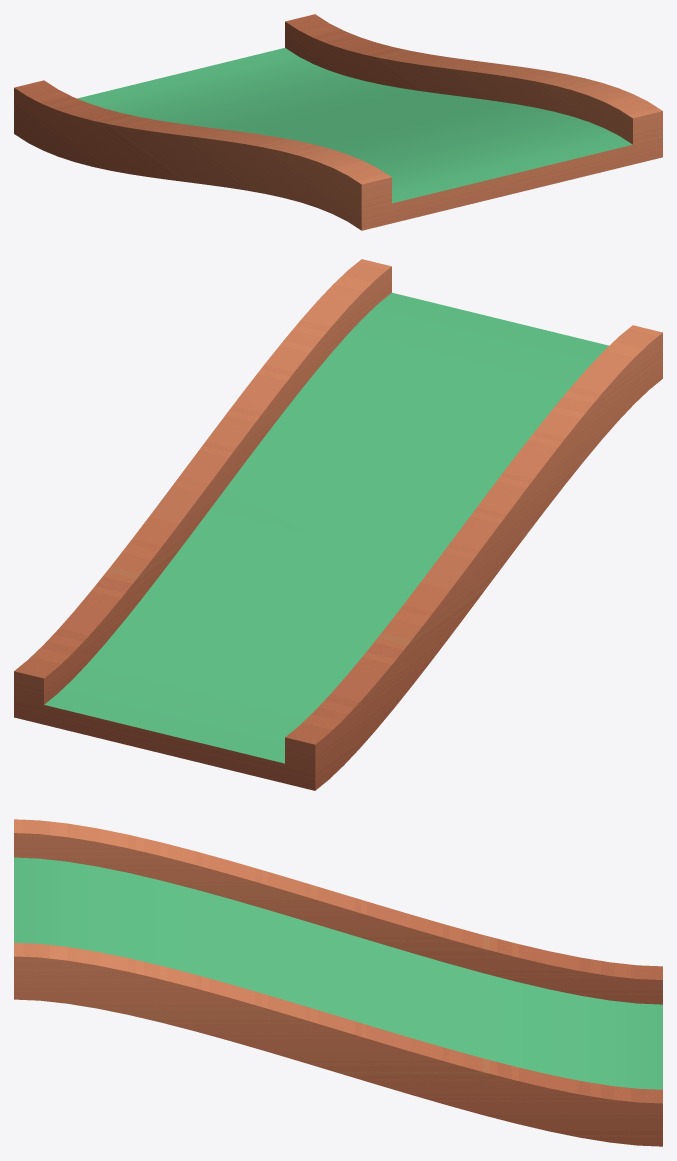
Rendered from ramp-large.glb.
3 views of the same model, one above another, from view 1: azimuth 30°, elevation 25°; view 2: azimuth 150°, elevation 25°; view 3: azimuth 270°, elevation 25° (orthographic). The views are drawn at different scales.
Parts seen in each view (by area): view 1: ramp-large; view 2: ramp-large; view 3: ramp-large.
Boxes of the visible parts, box(x1,y1,x2,y2) form: ramp-large: box(14, 14, 662, 230); ramp-large: box(14, 259, 662, 790); ramp-large: box(14, 819, 662, 1146).
Size of the model in its own units: 0.9999 by 0.6467 by 2.
Materials: 1 (1 with a texture image).
